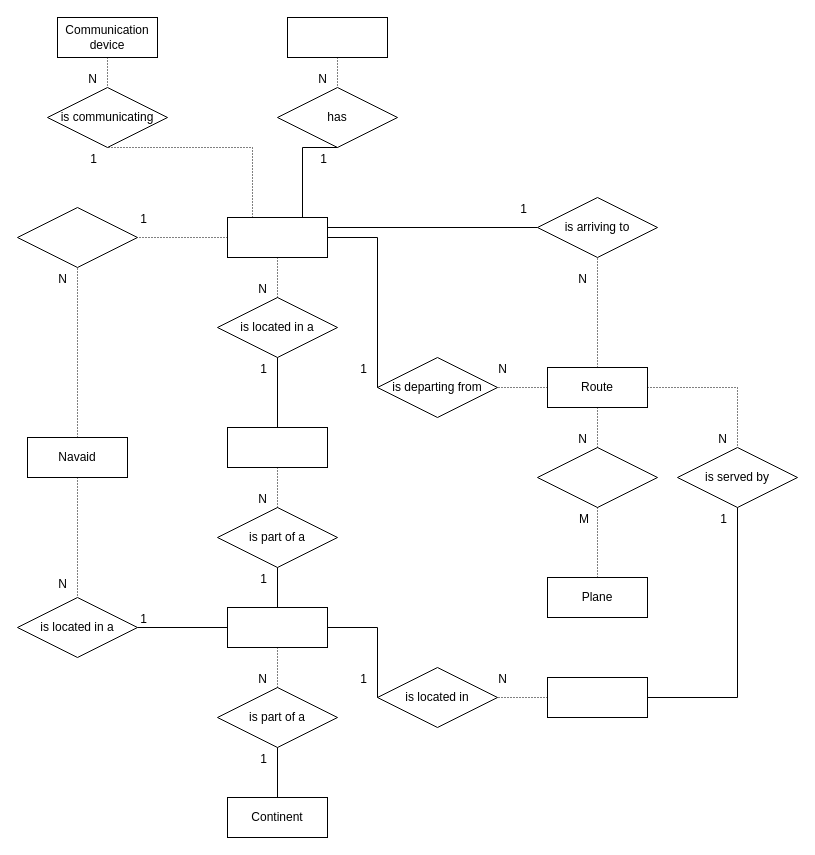
The diagram is 815 pixels wide and 855 high, and some of its shapes have lost their labels. The box of each missing label's shape, as (x1, y1, x2, y2) in pixels:
Airline: (546, 676, 648, 718)
Airport: (226, 216, 328, 258)
Country: (226, 606, 328, 648)
is flight with: (536, 446, 658, 508)
is located on an: (16, 206, 138, 268)
Region: (226, 426, 328, 468)
Runway: (286, 16, 388, 58)
